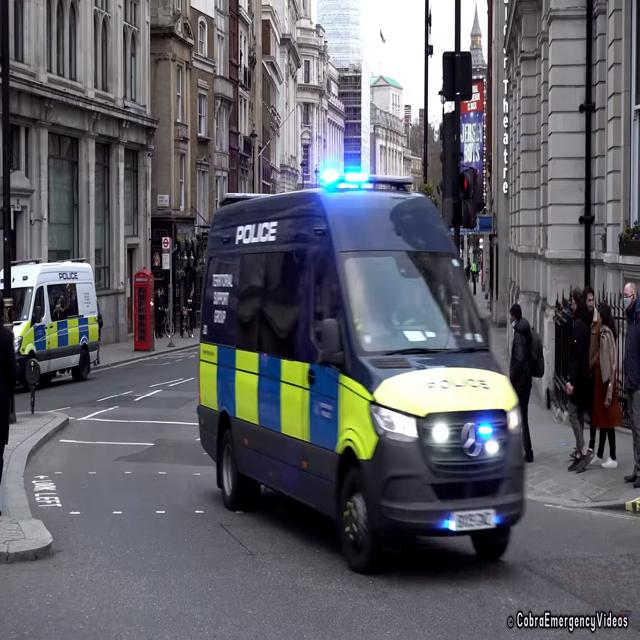emergency-vehicles: (176, 163, 534, 584)
